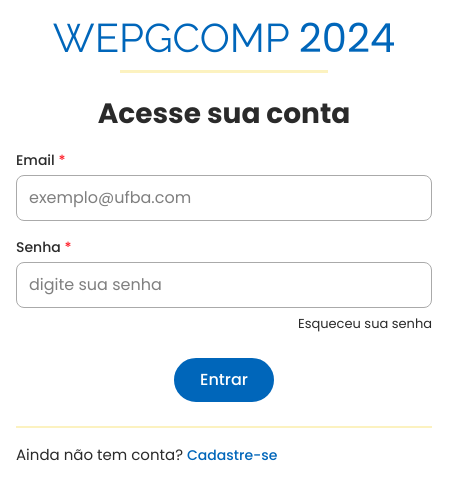
Test case: LoginPage › shows email validation error for invalid format
In the field labelled "Email *": (224, 198) [16,175,432,221], type "invalid"
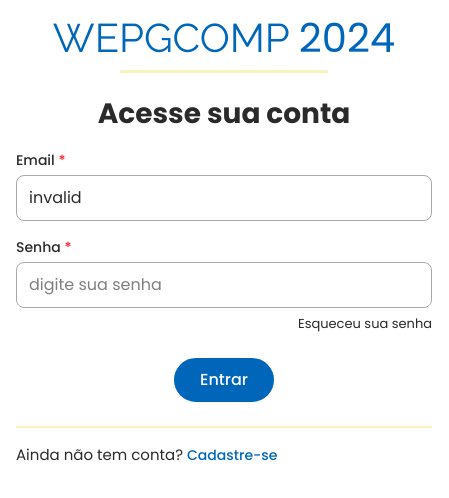
In the password field labelled "Senha *": (224, 285) [16,262,432,308], type "pass123"
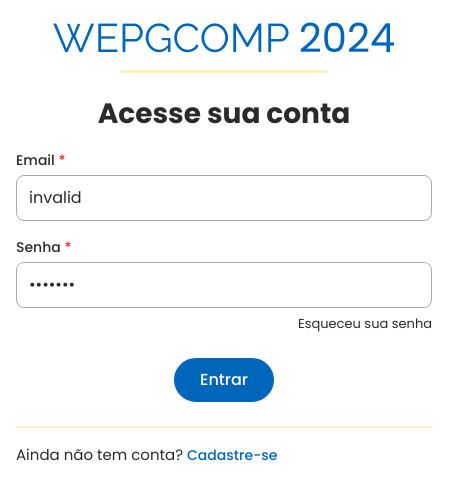
Click the button "Entrar": (224, 380) [174,358,274,402]
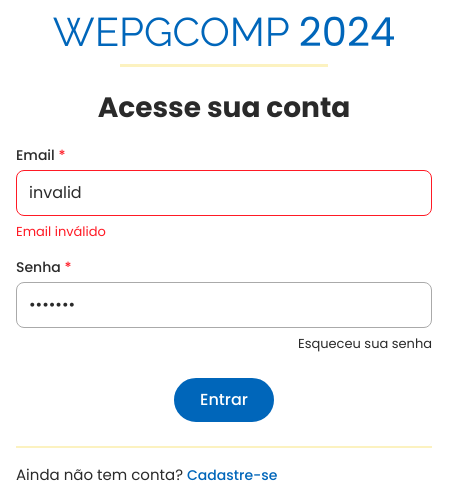
Now the text "Email inválido" is shown, box [16,222,106,241]
